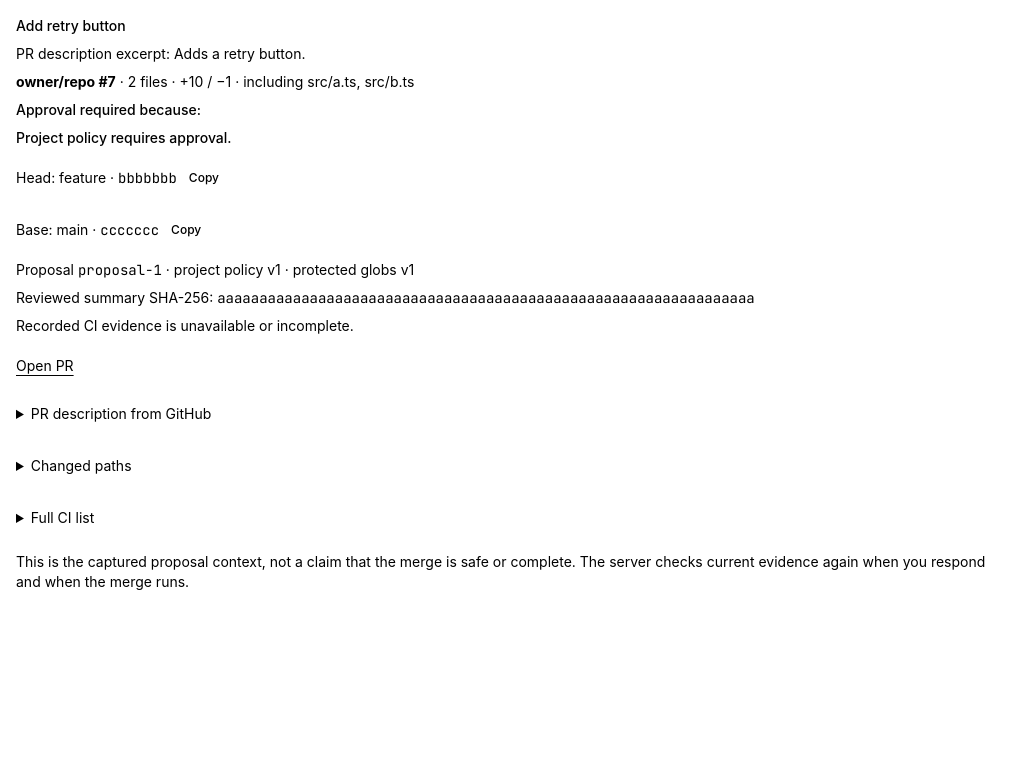
Test: detail paging › appends the next page on Load more and stops when there is no cursor
Click the heading "Changed paths".
click(81, 466)  # box left=31, top=457, right=132, bottom=474
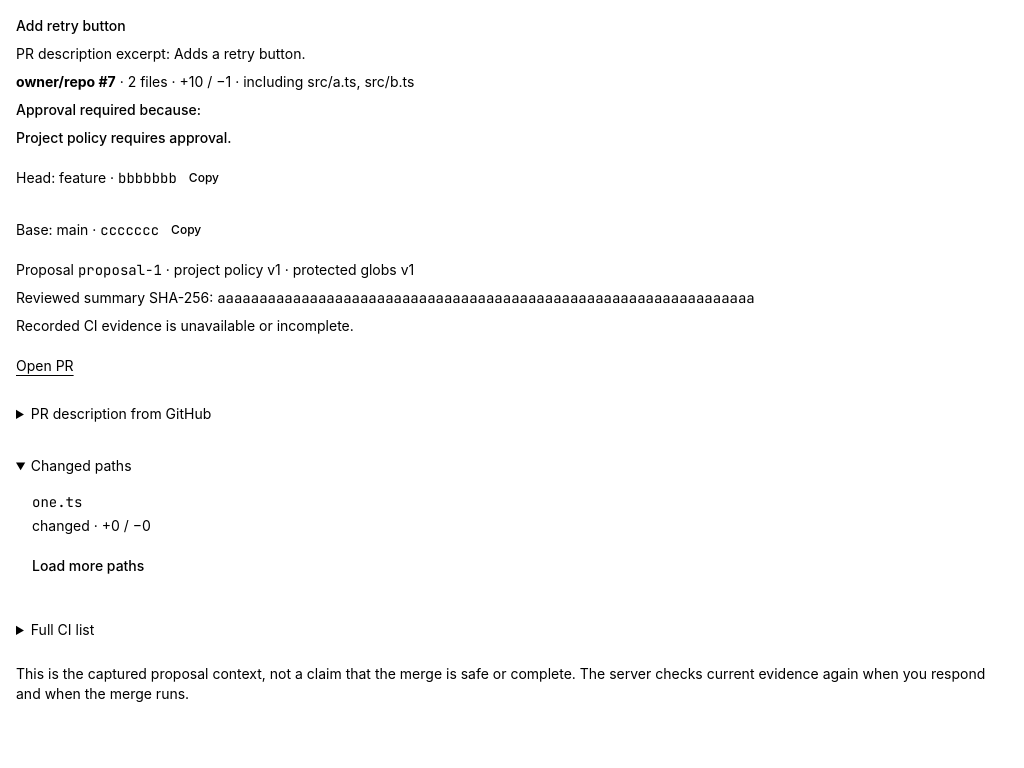
Result: the text "one.ts" is shown at left=32, top=493, right=82, bottom=511
Click the button "Load more paths".
click(88, 566)  # box left=16, top=544, right=160, bottom=588
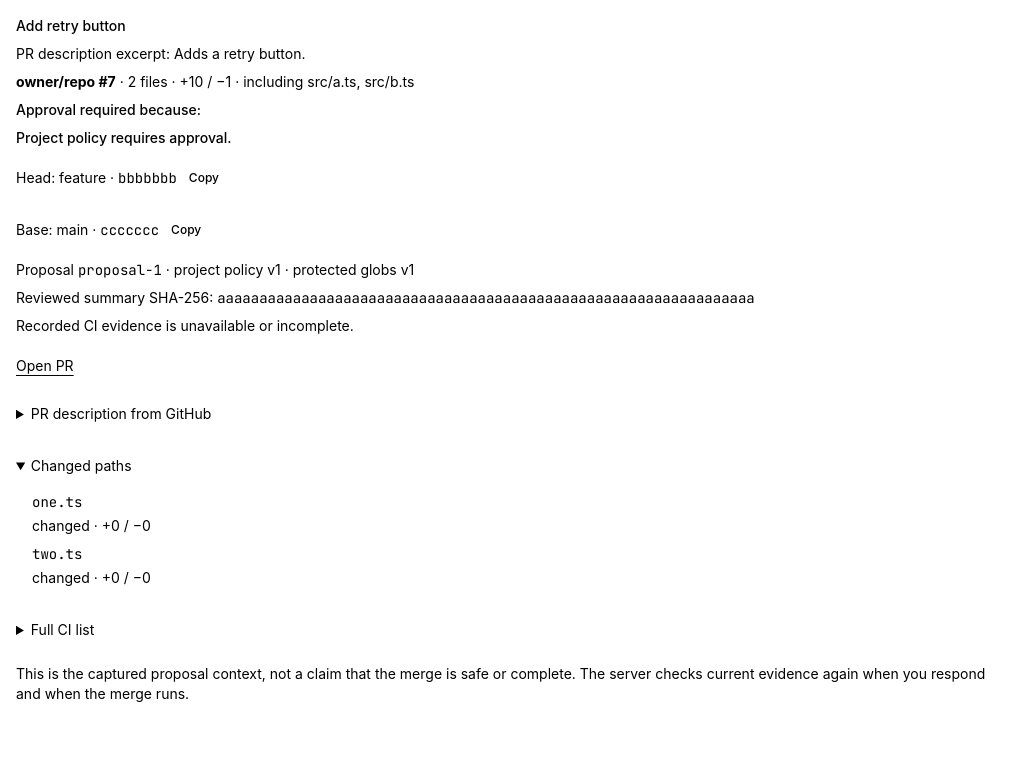
Result: the text "one.ts" is shown at left=32, top=493, right=82, bottom=511
Result: the text "two.ts" is shown at left=32, top=545, right=82, bottom=563
Result: the button "Load more paths" is gone
